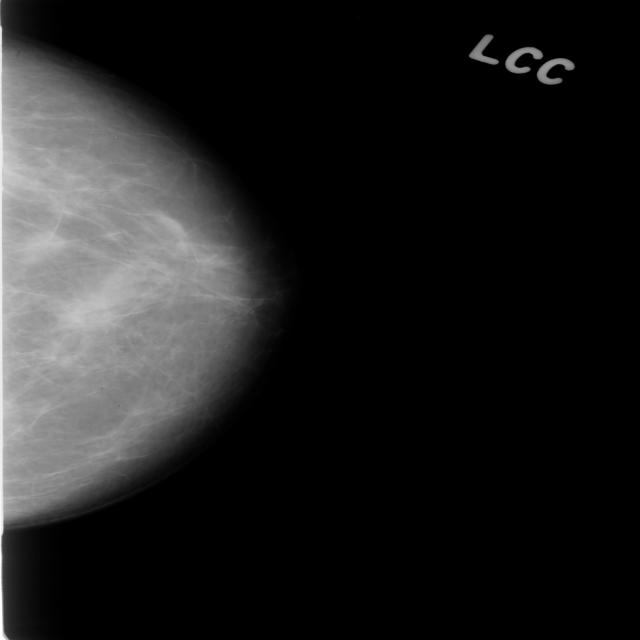normal: (0, 24, 287, 532)
